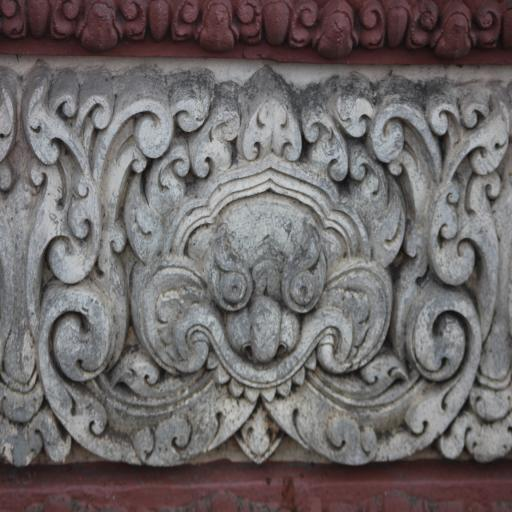lua: (122, 138, 192, 256), (351, 144, 405, 268), (239, 83, 303, 162), (191, 91, 243, 173), (304, 92, 348, 182)
